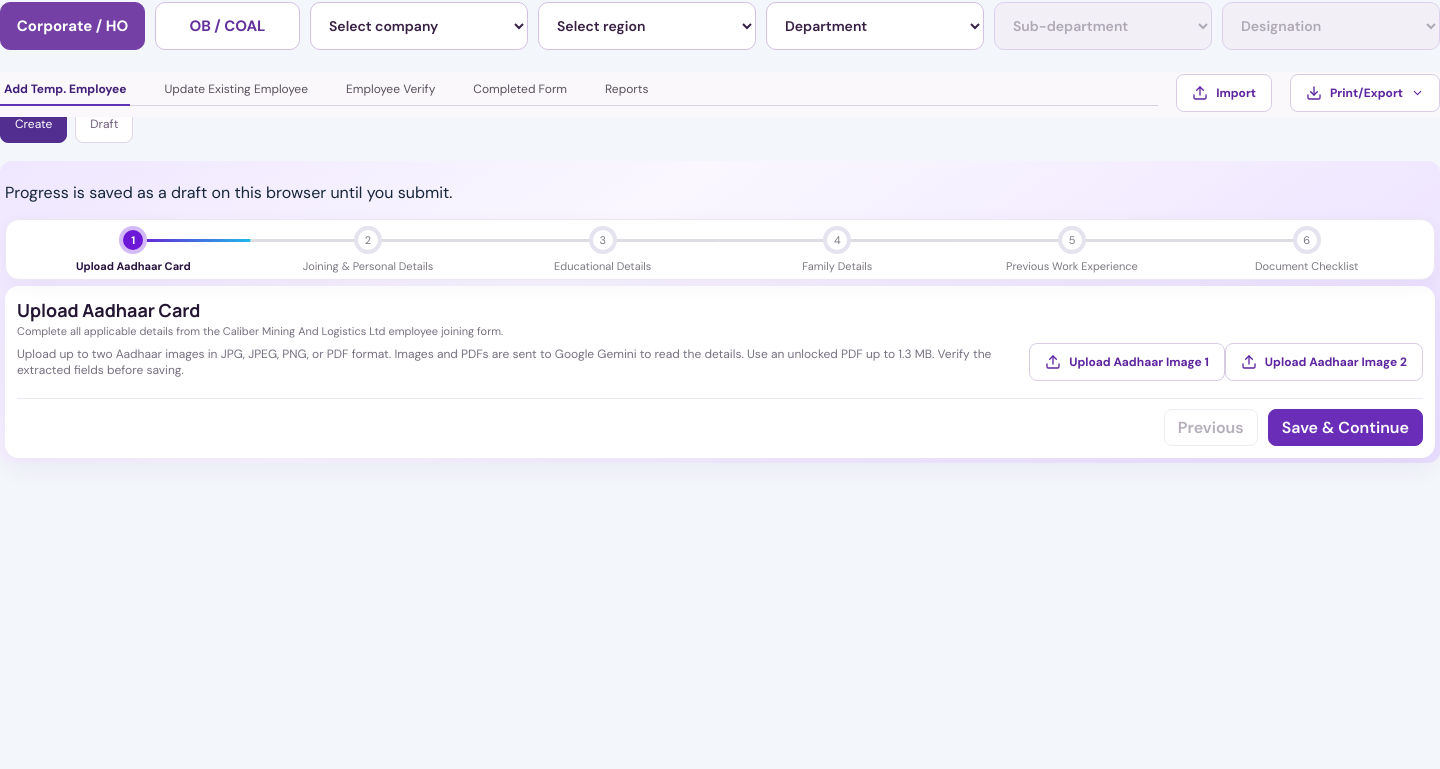
Test: Employee Master tabs › edits the selected employee on a later page and keeps changes after a failed save
Step 1. Click the button "Update Existing Employee" → click(236, 92), box [160, 80, 312, 104]
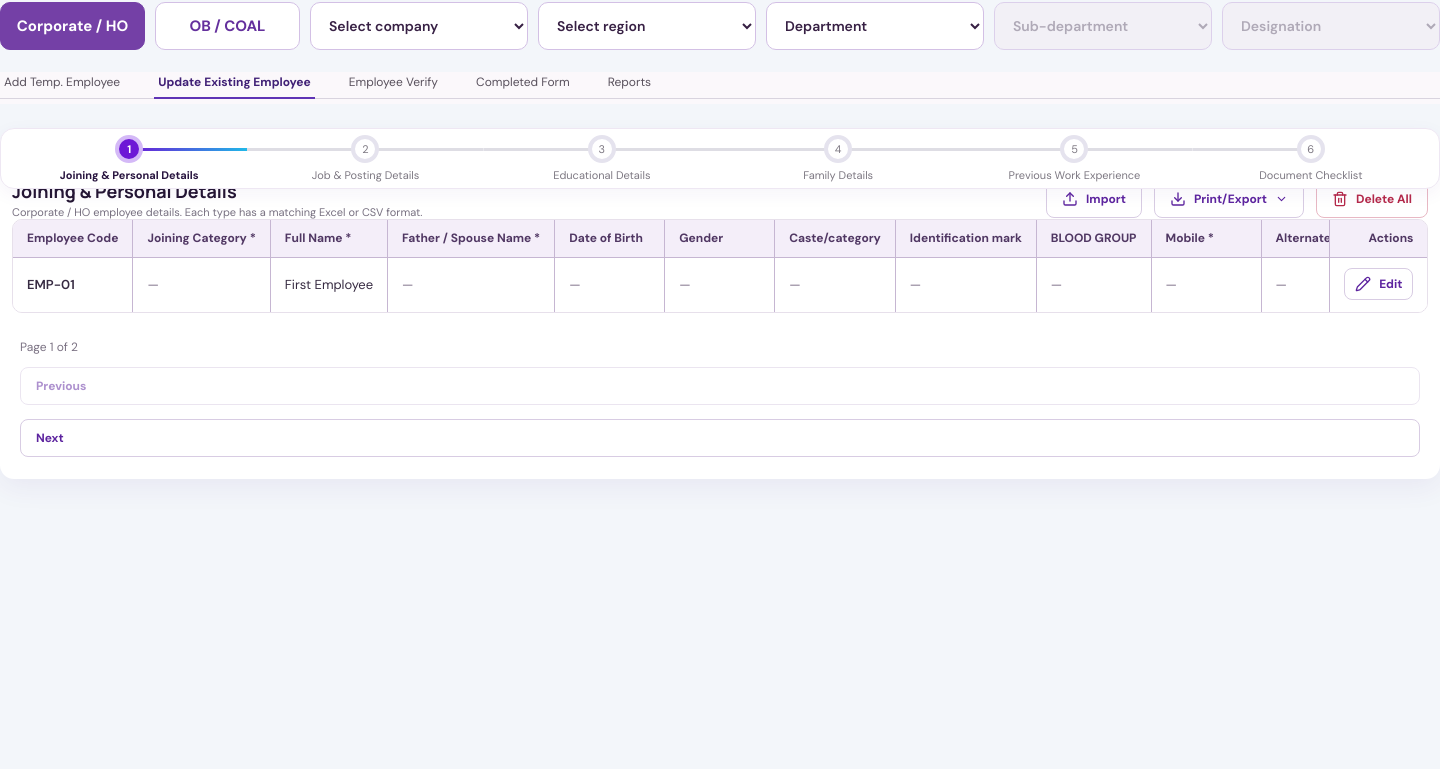
Step 2. Click the button "Next" → click(50, 438), box [20, 419, 1420, 457]
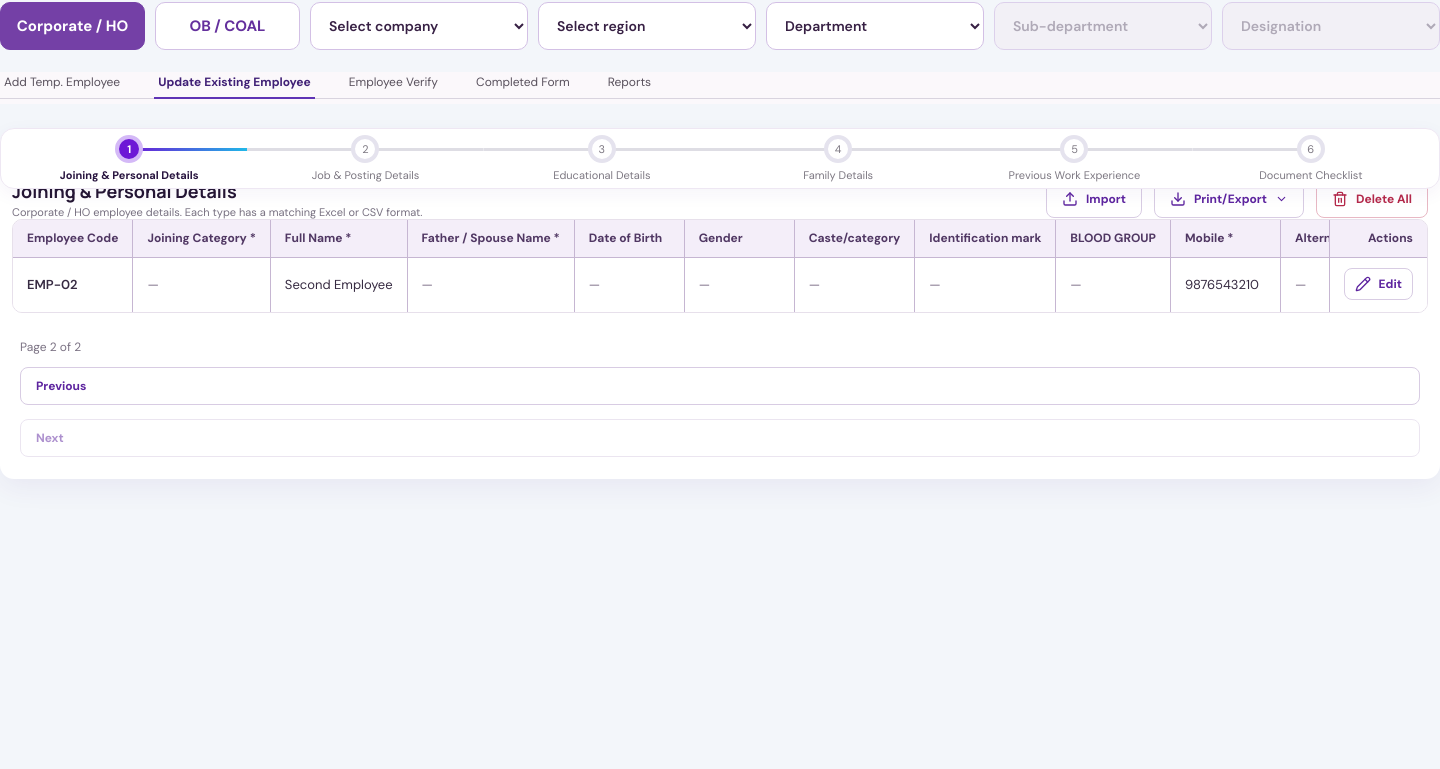
expect the column heading "Employee Code" is shown: met, box [13, 220, 132, 258]
expect the column heading "Actions" is shown: met, box [1329, 220, 1427, 258]
expect the cell "EMP-02" is shown: met, box [13, 258, 132, 312]
Step 3. Click the button with aria-label "Edit Second Employee (EMP-02)" → click(1378, 284), box [1344, 268, 1413, 300]
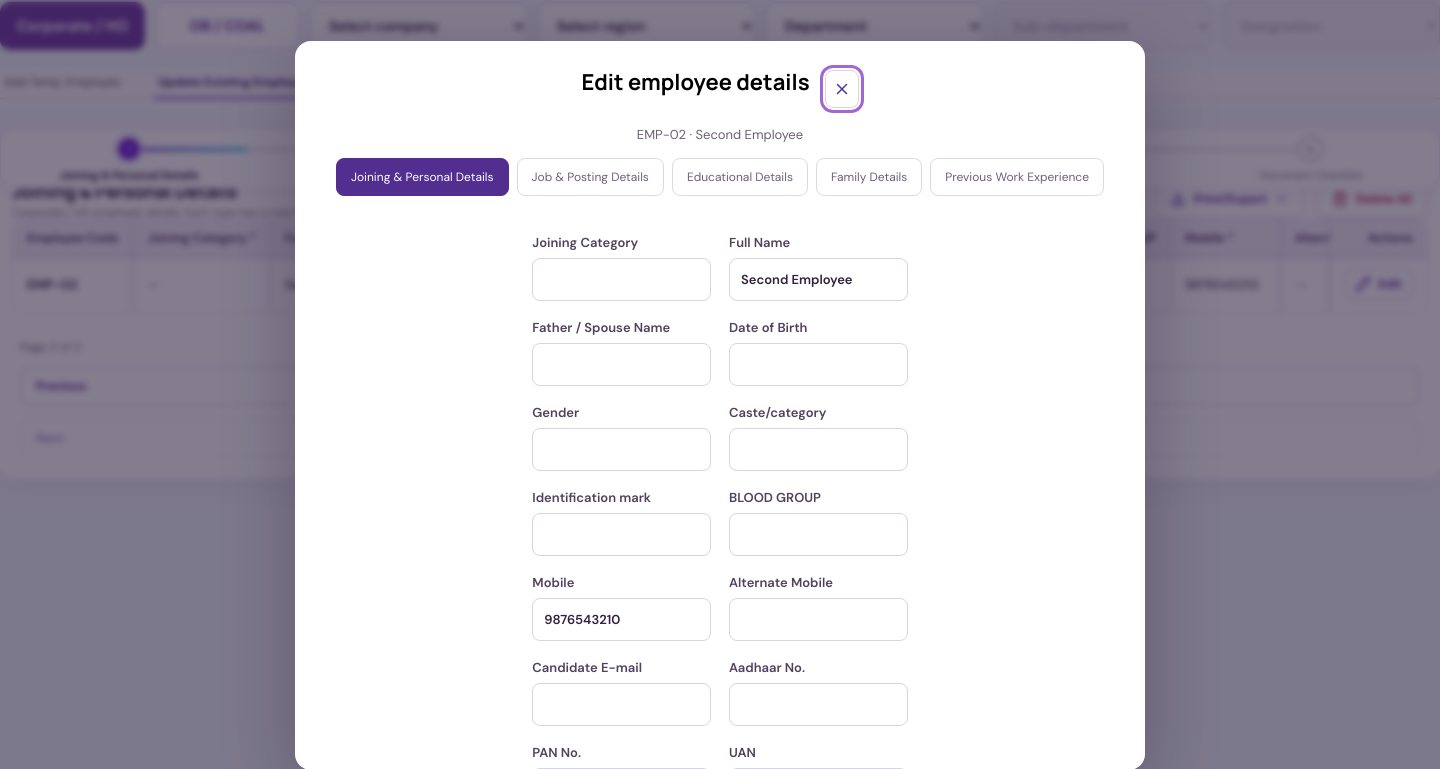
expect the field labelled "Mobile" holds "9876543210": met
Step 4. Replace the text in the field labelled "Mobile" with "9999999999" → (622, 620), box [532, 598, 711, 641]
Step 5. Click the button "Educational Details" → click(740, 177), box [672, 158, 808, 196]
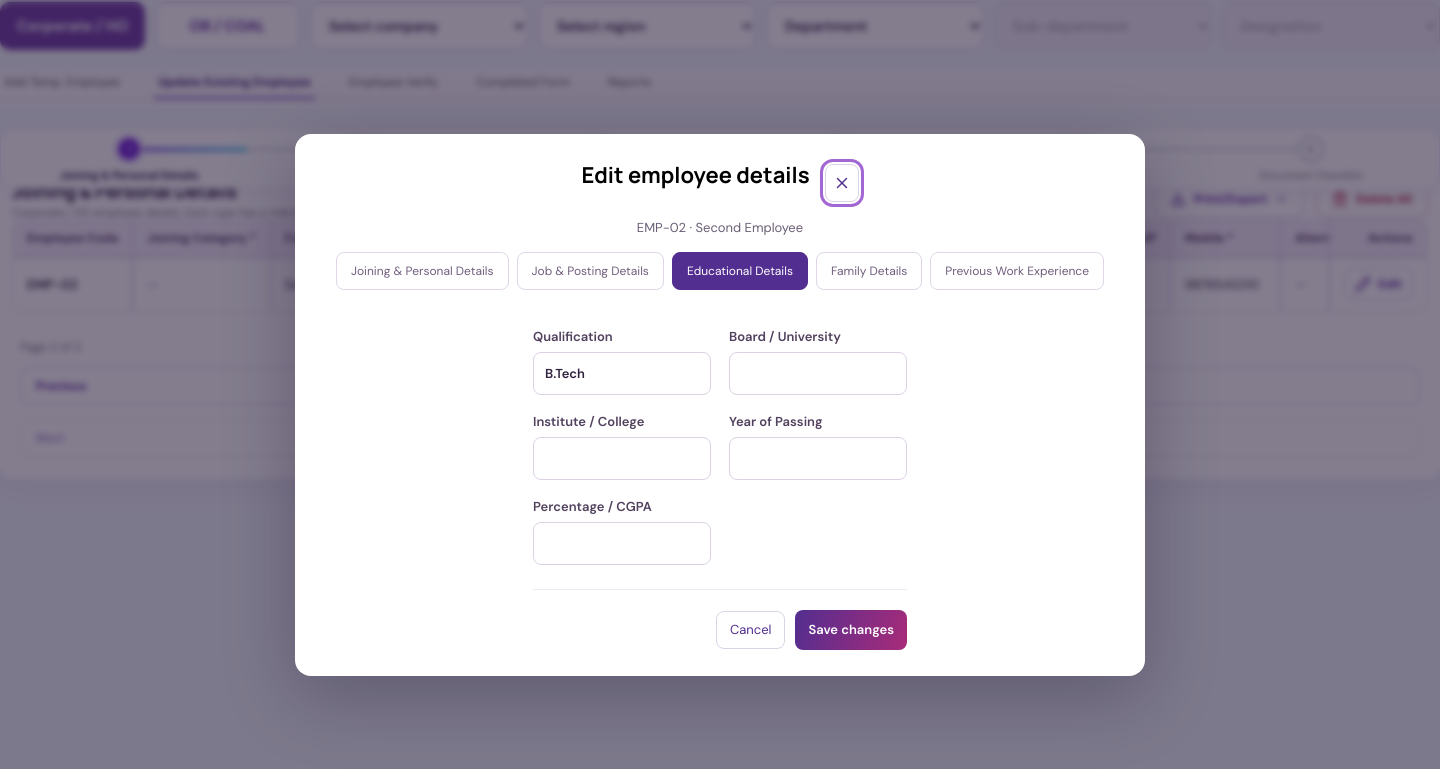
expect the field labelled "Qualification" holds "B.Tech": met
Step 6. Replace the text in the field labelled "Qualification" with "M.Tech" → (622, 373), box [533, 352, 711, 395]
Step 7. Click the button "Save changes" → click(851, 630), box [796, 610, 907, 650]
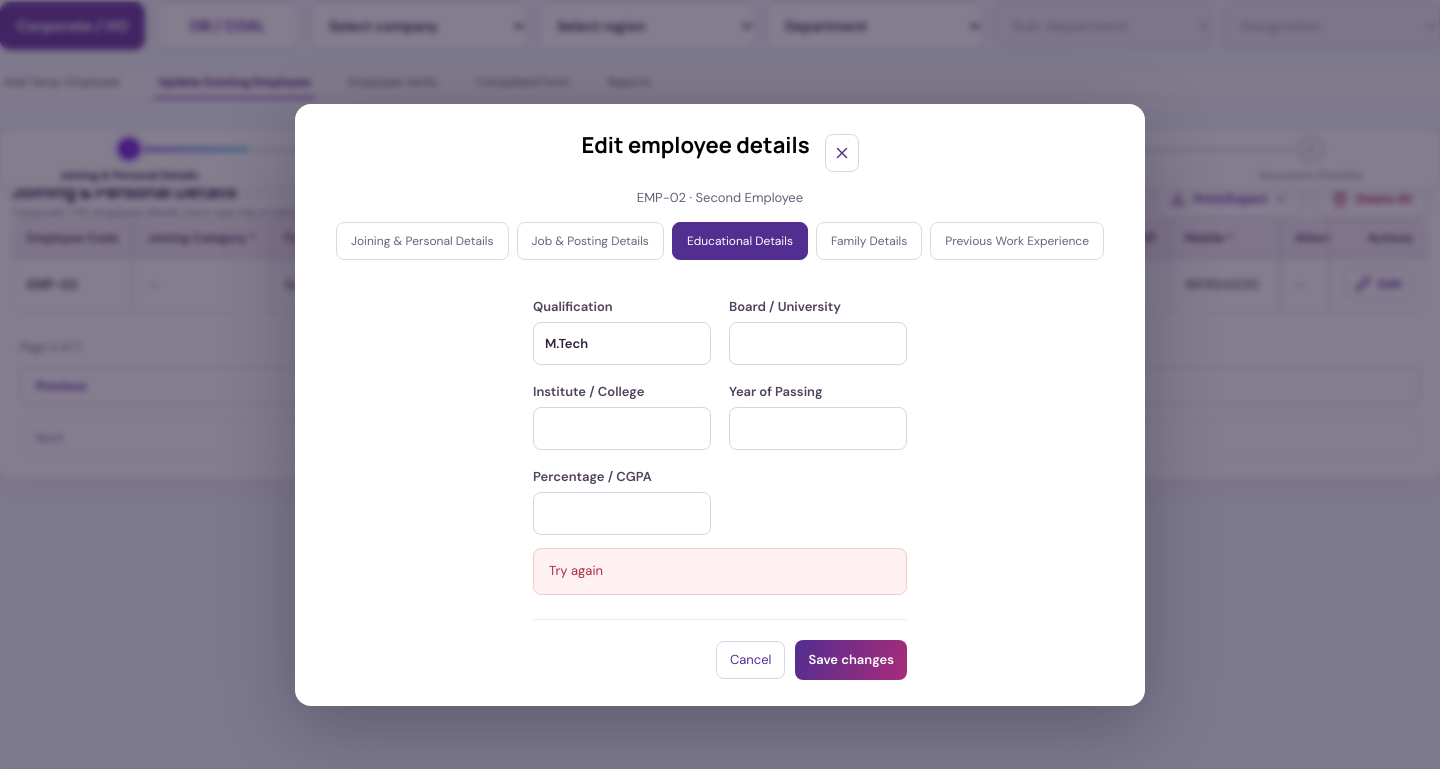
expect the message reads "Try again": met, box [549, 562, 603, 579]
Step 8. Click the button "Save changes" → click(851, 660), box [796, 640, 907, 680]
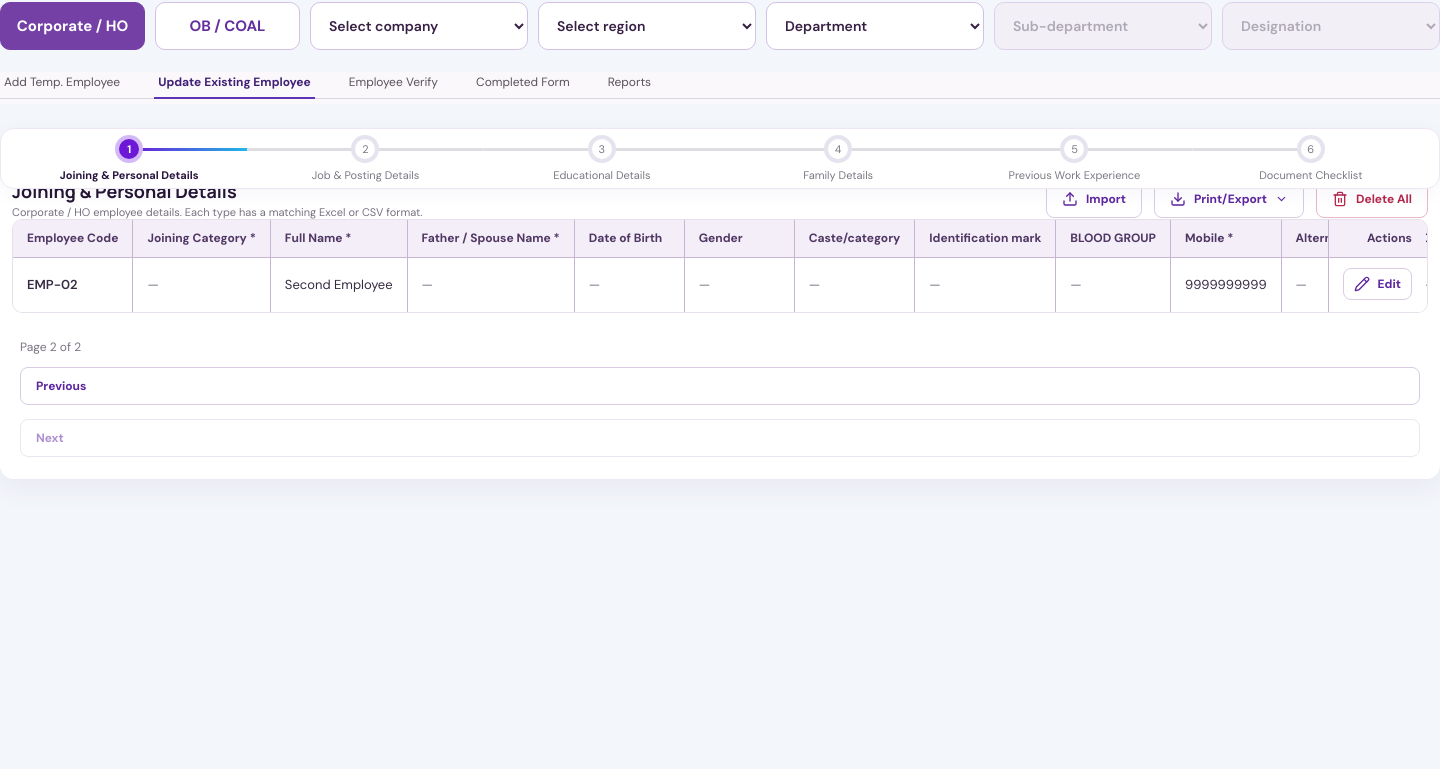
expect the heading "Edit employee details" is gone: met
expect the text "9999999999" is shown: met, box [1170, 258, 1281, 312]
